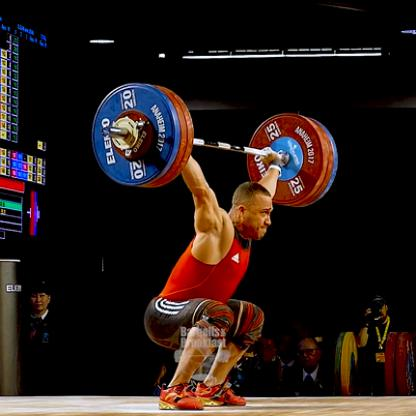Barbell: (78, 70, 199, 194)
